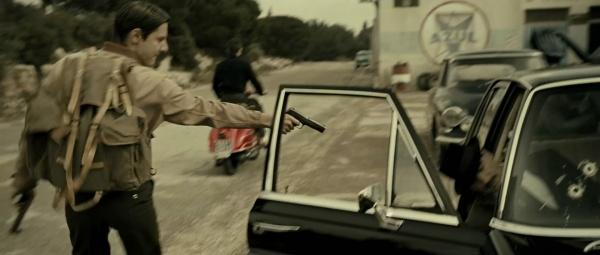Gun: (9, 171, 36, 236), (285, 107, 325, 135)
